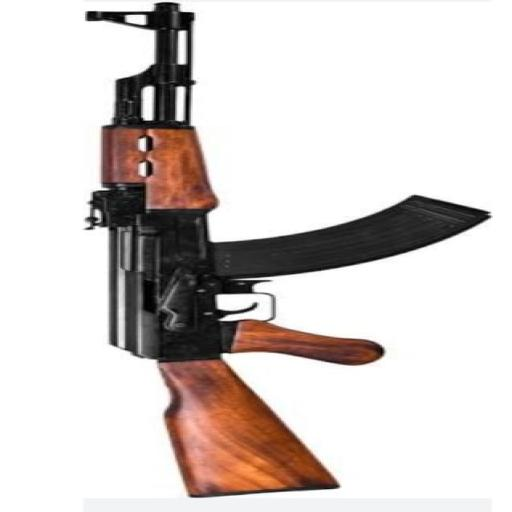Gun: (387, 198, 453, 229), (427, 201, 483, 221), (215, 402, 239, 441), (234, 268, 270, 280), (143, 124, 191, 133), (136, 135, 154, 156), (136, 163, 154, 181), (207, 242, 220, 263), (196, 450, 210, 468), (128, 305, 143, 321), (199, 390, 213, 404), (125, 338, 146, 347), (106, 125, 135, 131), (128, 28, 148, 36), (117, 268, 128, 279), (217, 322, 233, 329), (377, 259, 393, 266), (335, 241, 345, 250), (165, 362, 181, 367), (112, 226, 128, 231)
